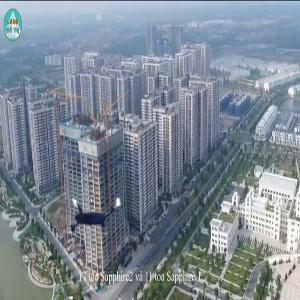drone: (54, 179, 129, 254)
